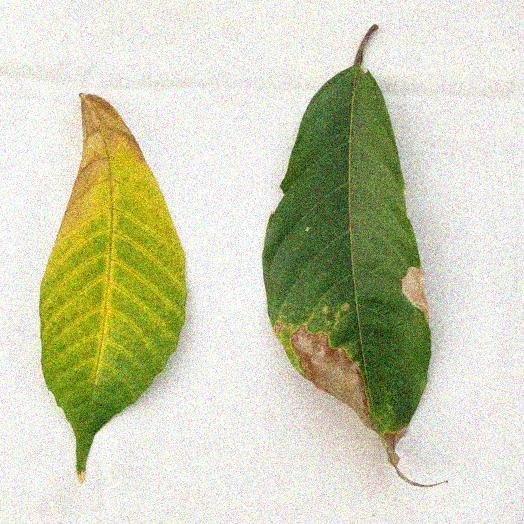Potassium: (263, 24, 437, 486), (41, 95, 186, 479)
